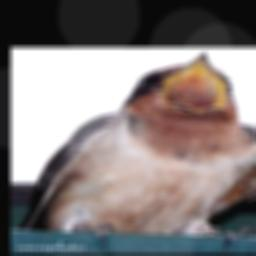Swallow: (20, 51, 256, 247)
